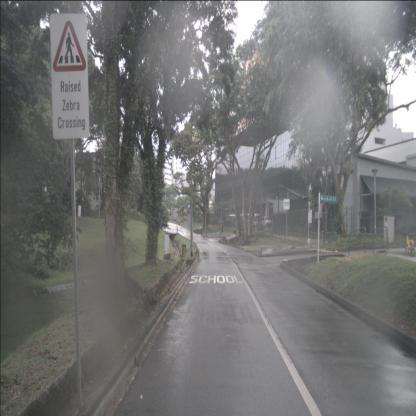human-pedestrian-adult: (221, 222, 223, 233)
vehicle-bicycle: (404, 230, 414, 257)
vehicle-bus-rigid: (227, 214, 245, 228), (244, 214, 260, 228)
vehicle-car: (260, 216, 272, 228)
